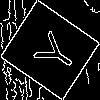Y: (25, 24, 81, 77)
